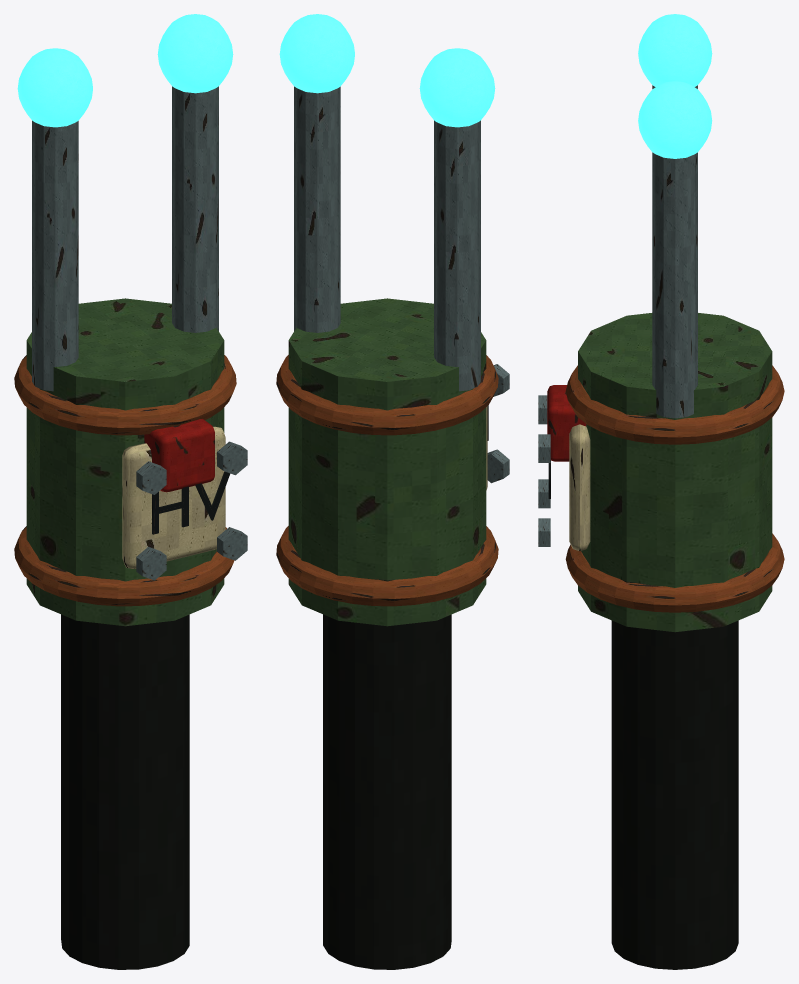
File: eq-shockbaton.glb
The picture shows the model from 3 angles, left to right: view 1: azimuth 30°, elevation 25°; view 2: azimuth 150°, elevation 25°; view 3: azimuth 270°, elevation 25°; orthographic projection.
Visible parts, largest first — view 1: Grip.001, Battery housing, Electrode, Electrode.001, Cream inset.012, Copper collar.001, Copper collar, Contact, Contact.001, Safety switch, Mark_HV, Hex fastener.051 (+3 smaller); view 2: Battery housing, Grip.001, Electrode, Electrode.001, Copper collar, Copper collar.001, Contact.001, Contact, Hex fastener.048; view 3: Grip.001, Battery housing, Electrode.001, Copper collar.001, Copper collar, Contact.001, Contact, Cream inset.012, Safety switch.
Boxes of the visible parts, x1=… form: Grip.001: x1=61, y1=614, x2=189, y2=969; Battery housing: x1=26, y1=298, x2=224, y2=626; Electrode: x1=32, y1=120, x2=78, y2=391; Electrode.001: x1=172, y1=86, x2=218, y2=332; Cream inset.012: x1=122, y1=426, x2=225, y2=568; Copper collar.001: x1=14, y1=355, x2=236, y2=435; Copper collar: x1=14, y1=526, x2=234, y2=606; Contact: x1=17, y1=48, x2=92, y2=127; Contact.001: x1=157, y1=14, x2=233, y2=93; Safety switch: x1=144, y1=418, x2=214, y2=492; Mark_HV: x1=152, y1=471, x2=230, y2=534; Hex fastener.051: x1=217, y1=441, x2=247, y2=475; Battery housing: x1=288, y1=298, x2=486, y2=626; Grip.001: x1=323, y1=614, x2=451, y2=969; Electrode: x1=434, y1=120, x2=480, y2=391; Electrode.001: x1=294, y1=86, x2=340, y2=332; Copper collar: x1=276, y1=526, x2=498, y2=606; Copper collar.001: x1=276, y1=355, x2=498, y2=435; Contact.001: x1=279, y1=14, x2=354, y2=93; Contact: x1=419, y1=48, x2=495, y2=127; Hex fastener.048: x1=487, y1=449, x2=509, y2=483; Grip.001: x1=611, y1=620, x2=738, y2=969; Battery housing: x1=578, y1=313, x2=772, y2=632; Electrode.001: x1=652, y1=152, x2=697, y2=418; Copper collar.001: x1=565, y1=365, x2=784, y2=444; Copper collar: x1=565, y1=533, x2=784, y2=612; Contact.001: x1=638, y1=81, x2=712, y2=158; Contact: x1=638, y1=14, x2=712, y2=86; Cream inset.012: x1=569, y1=424, x2=590, y2=551; Safety switch: x1=547, y1=385, x2=586, y2=461.
Bounding box in the file's own units: 0.132 × 0.558 × 0.1395.
Materials: 8 (8 with a texture image).
